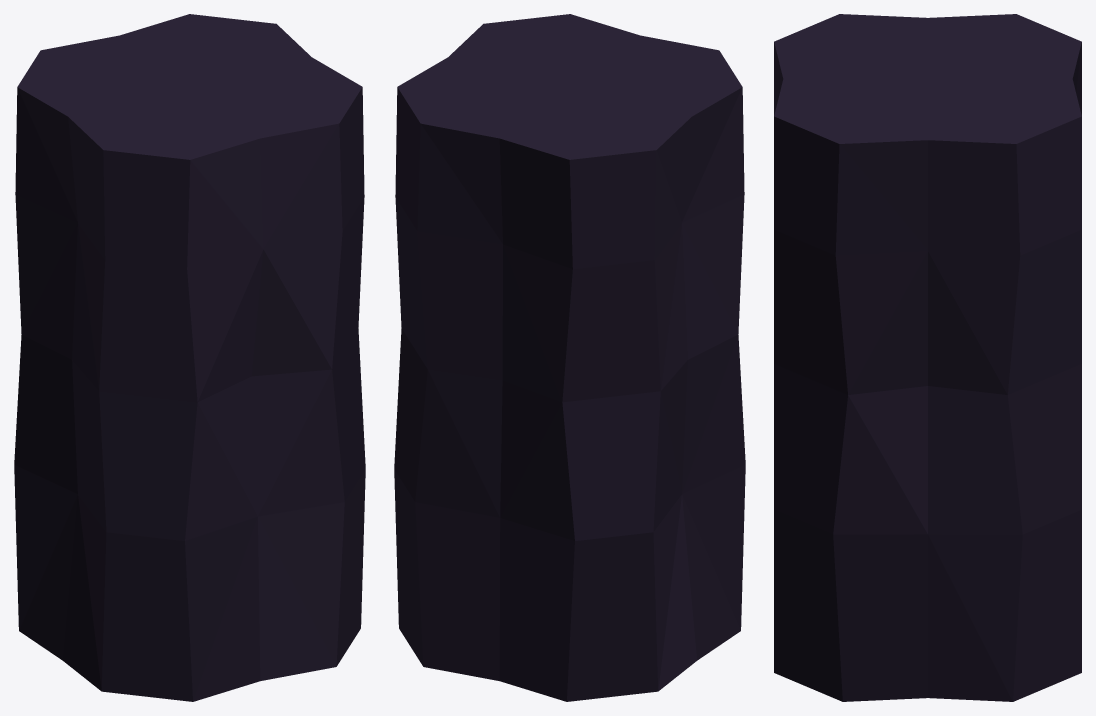
Rendered from Section_2.glb.
3 views of the same model, side by side, from view 1: azimuth 30°, elevation 25°; view 2: azimuth 150°, elevation 25°; view 3: azimuth 270°, elevation 25° (orthographic). The views are drawn at different scales.
Parts seen in each view (by area): view 1: Section; view 2: Section; view 3: Section.
Part boxes in pixels (x1,y1,x2,y2): Section: (14, 14, 365, 701); Section: (394, 14, 745, 701); Section: (774, 14, 1081, 701).
Bounding box in the file's own units: 2 × 4 × 2.
